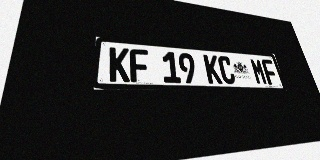1: (161, 51, 181, 83)
9: (178, 52, 198, 83)
C: (217, 56, 236, 84)
F: (129, 48, 150, 82), (261, 59, 279, 85)
K: (109, 47, 130, 82), (203, 54, 223, 84)
M: (249, 58, 268, 85)
